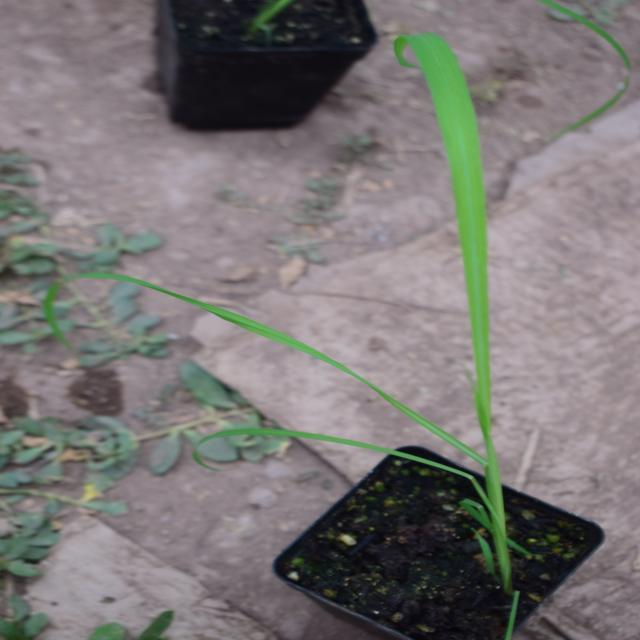barnyard_grass: (76, 183, 614, 549)
